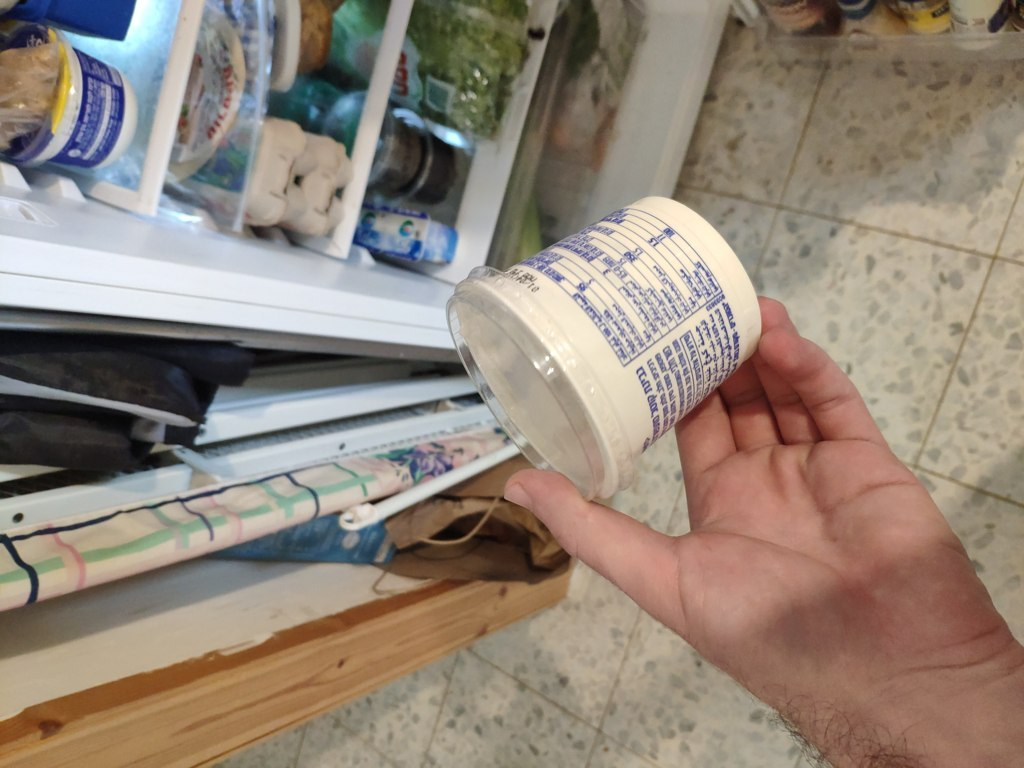Cotage: (464, 226, 769, 521)
